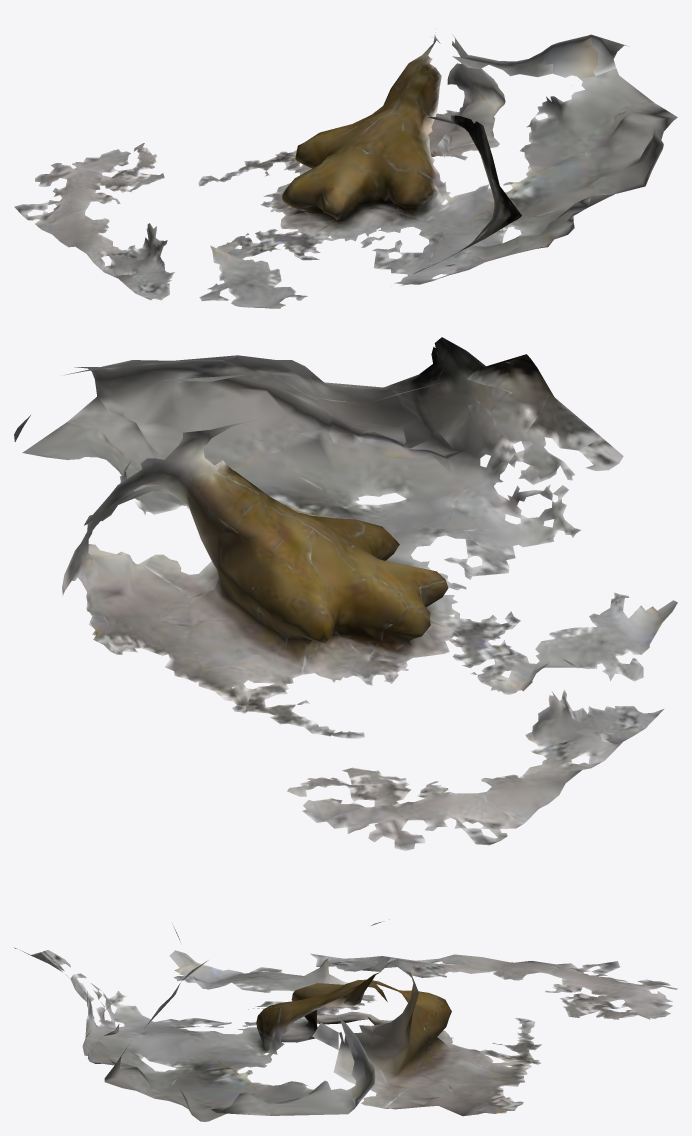
The model's file is hall.glb.
3 views of the same model, one above another, from view 1: azimuth 30°, elevation 25°; view 2: azimuth 150°, elevation 25°; view 3: azimuth 270°, elevation 25° (orthographic). The views are drawn at different scales.
Size of the model in its own units: 1.57 by 0.5576 by 1.65.
Materials: 1 (1 with a texture image).
